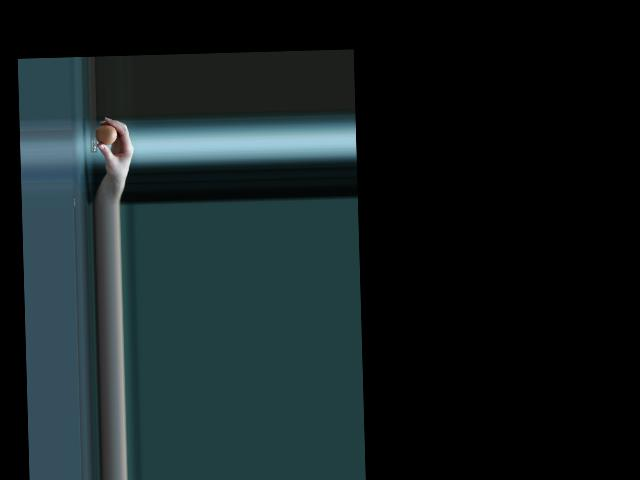egg: (94, 124, 117, 145)
